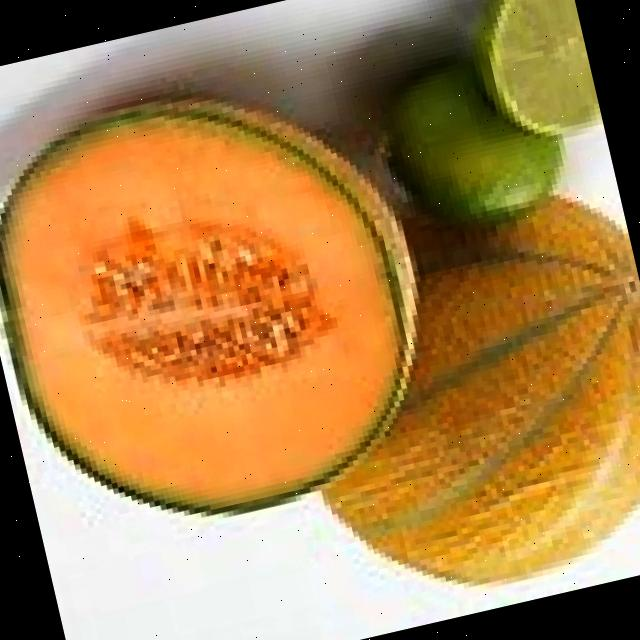Hami Melon: (0, 48, 453, 547), (268, 174, 640, 623)
